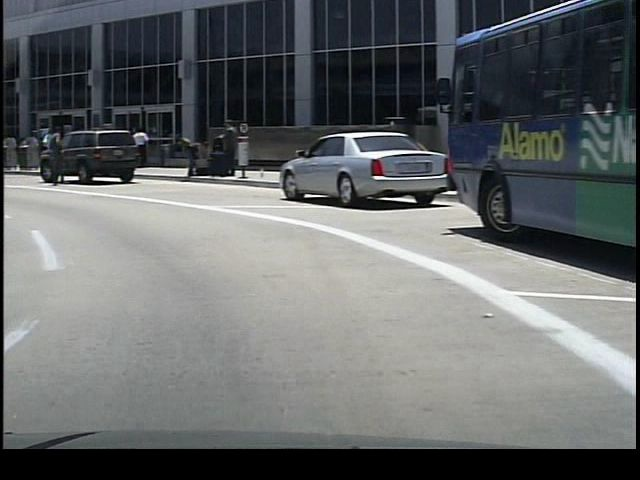person: (42, 117, 70, 194), (176, 131, 205, 185), (214, 120, 234, 179), (126, 126, 148, 170)
